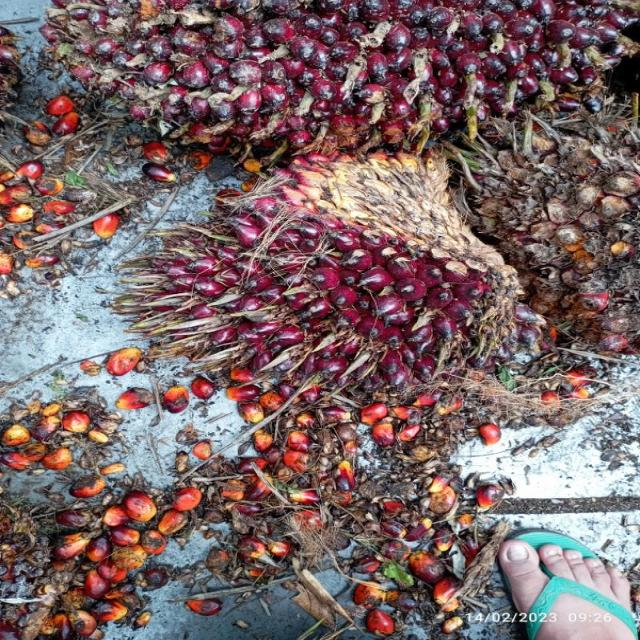fraksi 1: (119, 143, 527, 404)
